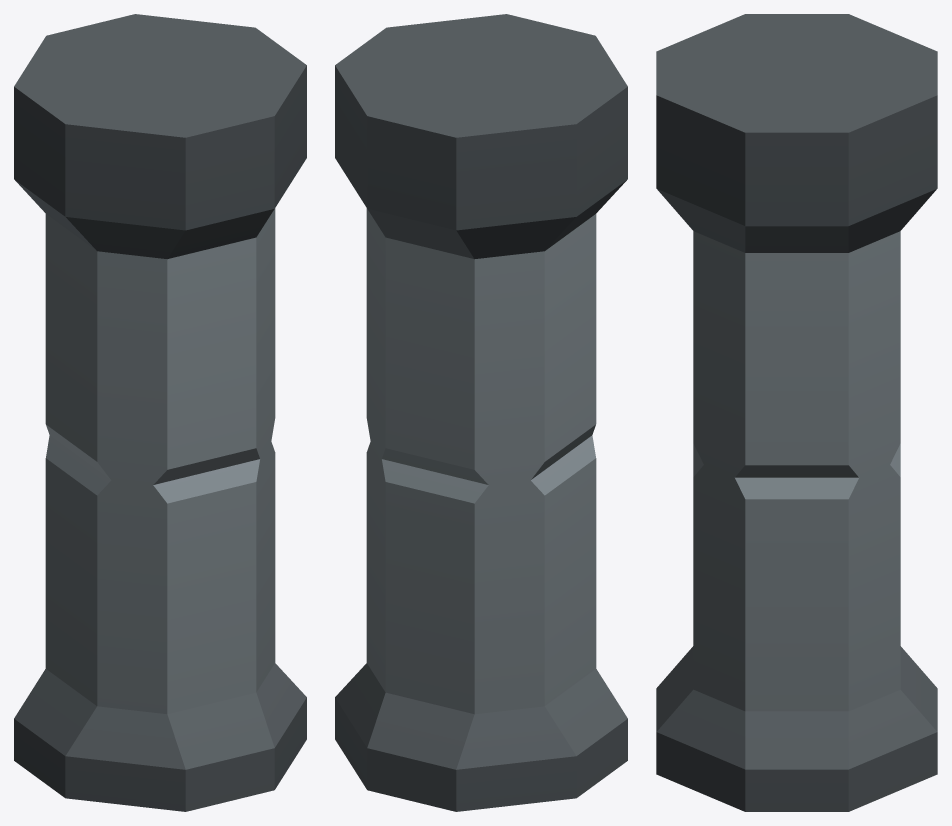
The model's file is pillar.gltf.
The picture shows the model from 3 angles, left to right: view 1: azimuth 30°, elevation 25°; view 2: azimuth 150°, elevation 25°; view 3: azimuth 270°, elevation 25°; orthographic projection.
Parts seen in each view (by area): view 1: pillar; view 2: pillar; view 3: pillar.
Boxes of the visible parts, x1=… form: pillar: x1=14, y1=14, x2=306, y2=811; pillar: x1=335, y1=14, x2=627, y2=811; pillar: x1=656, y1=14, x2=937, y2=811.
Size of the model in its own units: 1.5 by 4 by 1.5.
1 material, 1 textured.
